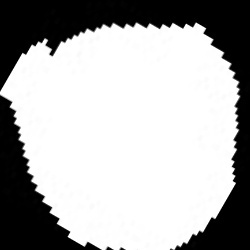spot: (1, 22, 241, 248)
